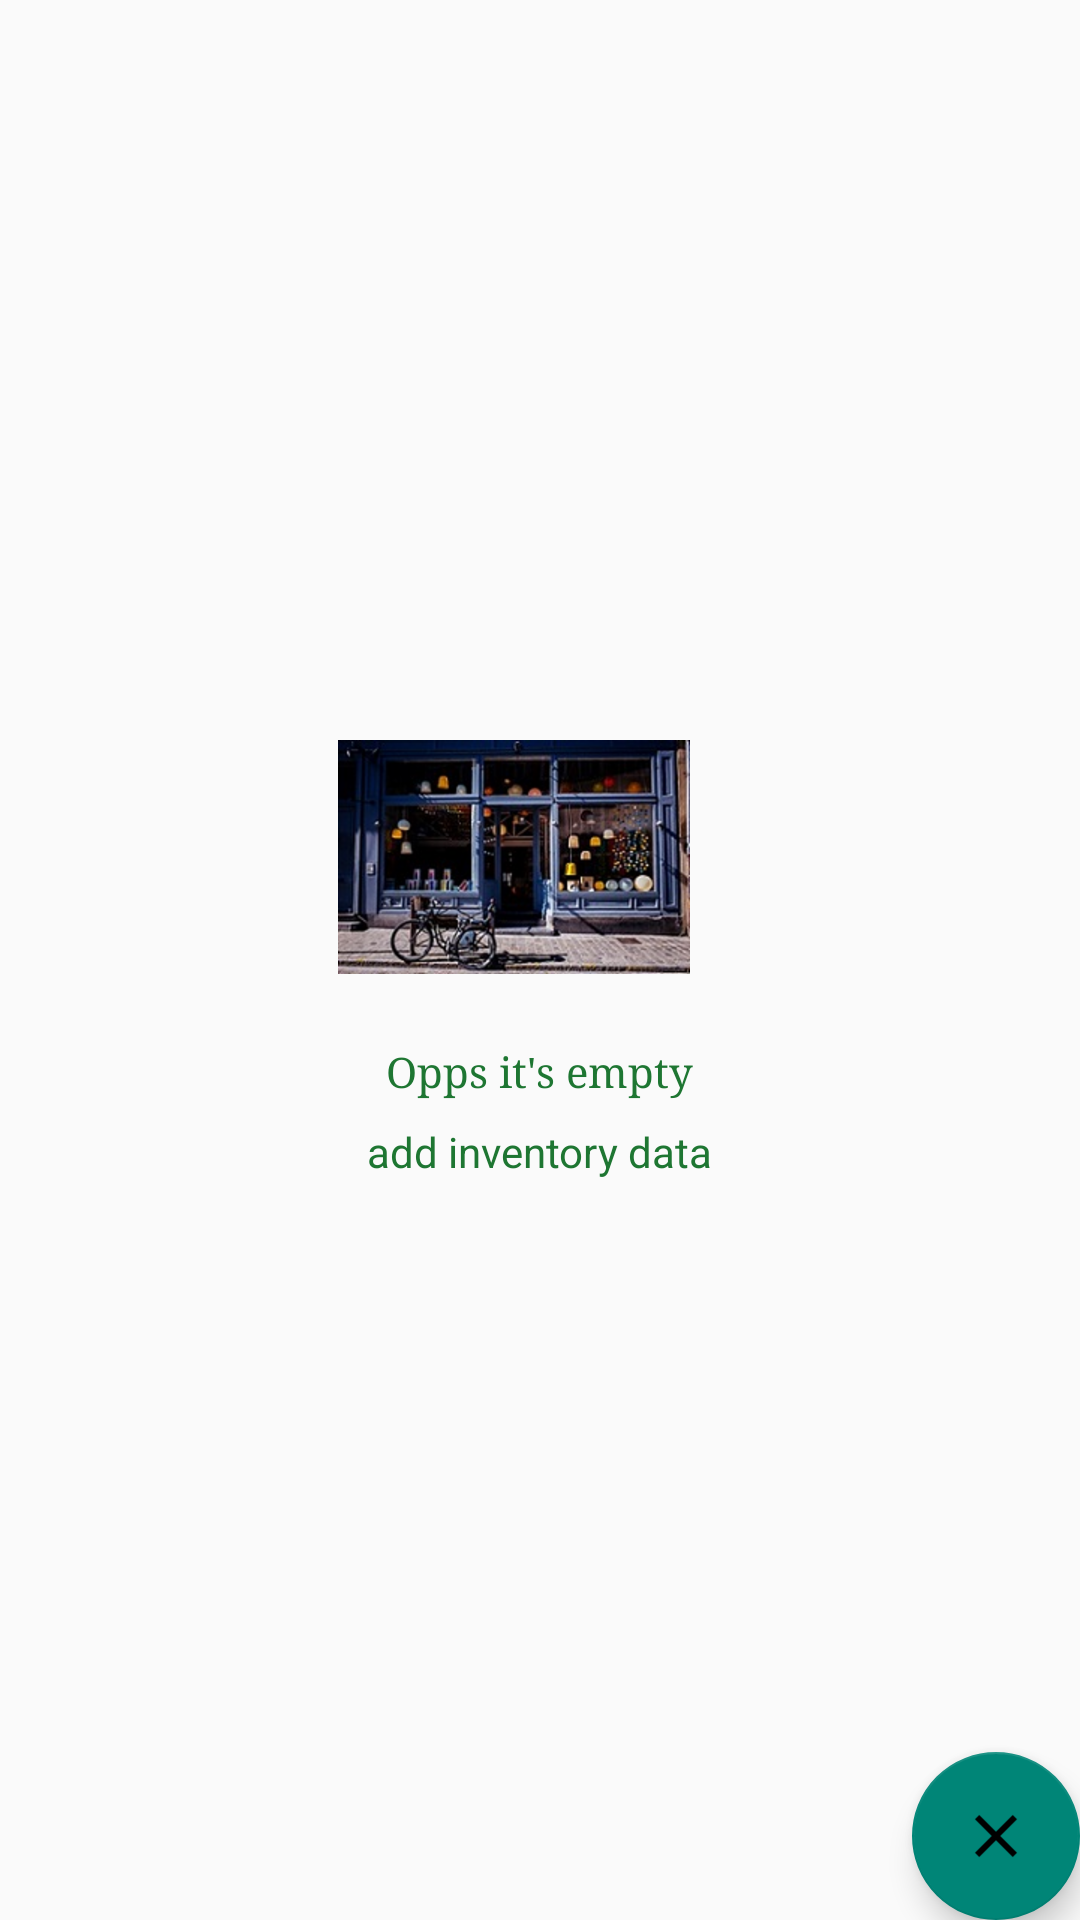

Screen size 1080px x 1920px. Icon name, then its center in pixels as (x,y):
classic store: (514,857)
close: (996,1836)
